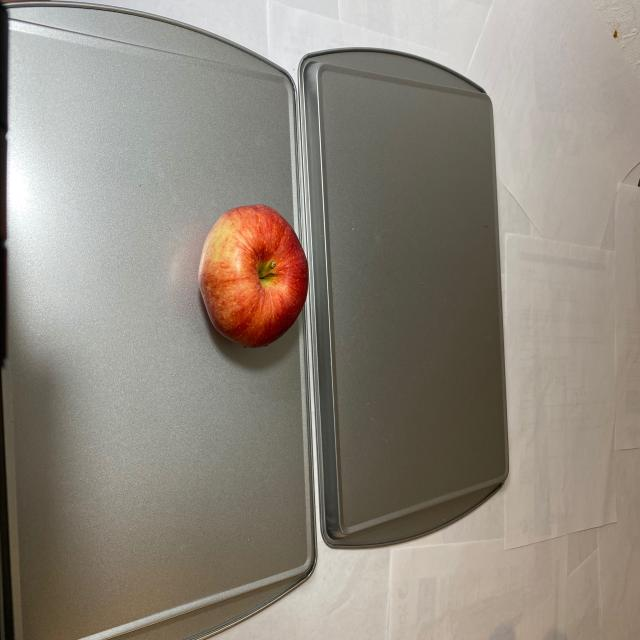apple: (198, 203, 307, 353)
